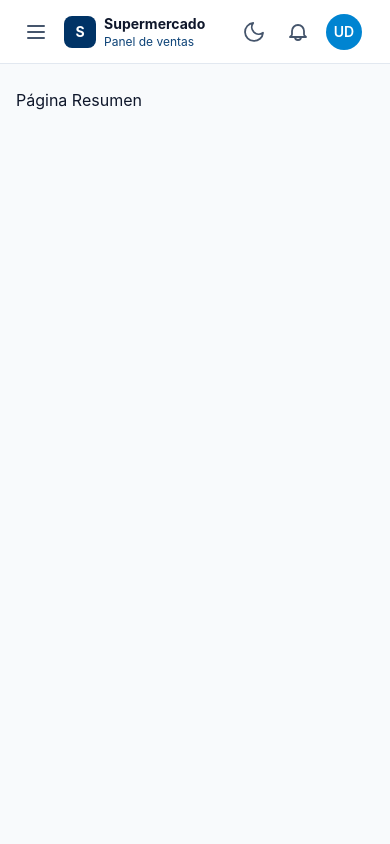
it: PanelLayout: cajón móvil › se cierra con el botón Cerrar menú
Click the button named "Abrir menú".
click(36, 32)  # box top-left (16, 12), bottom-right (56, 52)
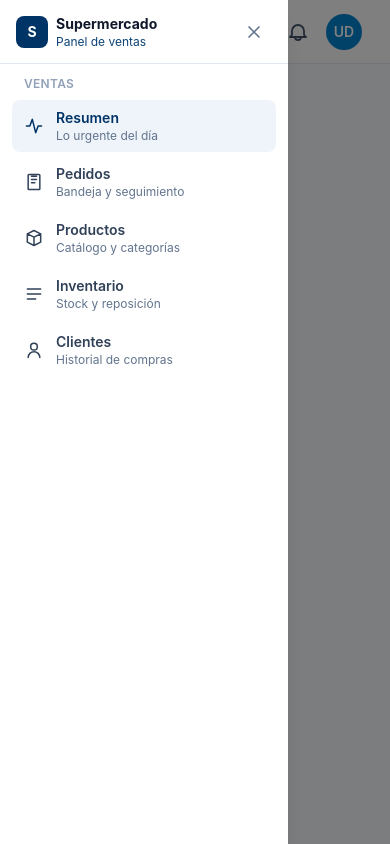
Click the button named "Cerrar menú".
click(254, 32)  # box top-left (236, 14), bottom-right (272, 50)
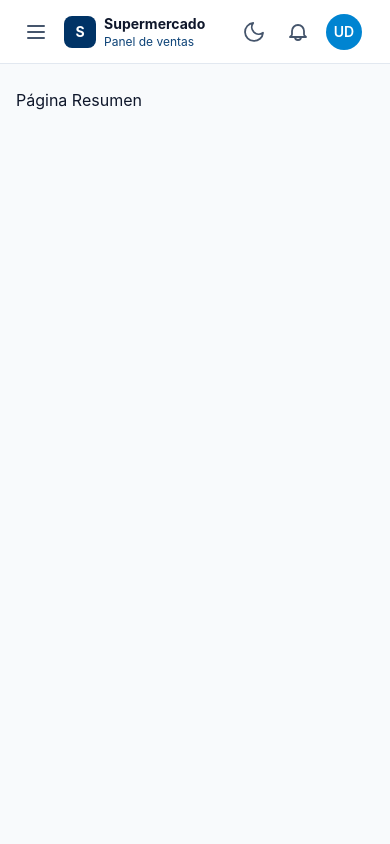
expect the button "Menú" is gone: met
